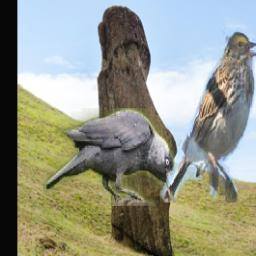Crow: (43, 108, 175, 206)
Sparrow: (161, 27, 256, 203)
